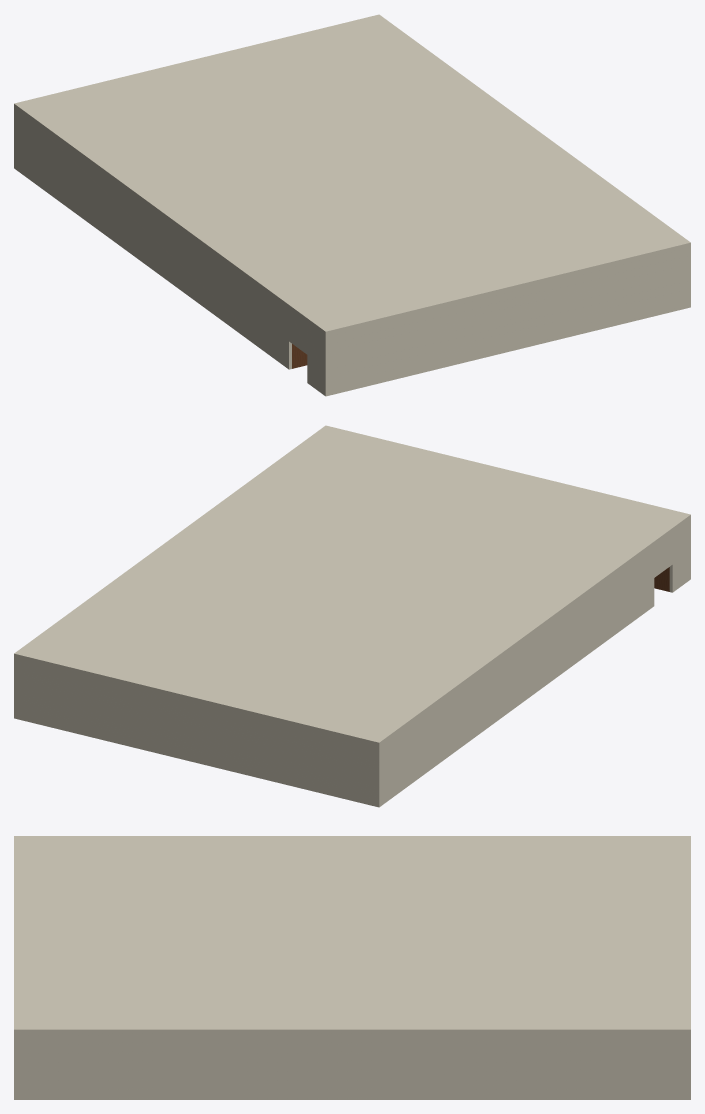
File: WP02_sports_care.glb
3 views of the same model, one above another, from view 1: azimuth 30°, elevation 25°; view 2: azimuth 150°, elevation 25°; view 3: azimuth 270°, elevation 25° (orthographic). The views are drawn at different scales.
Visible parts, largest first — view 1: OpaqueDeckBoundaryEnclosure, AftWall, WestWall_fore, WestWall_aft, EastWall, ForeWall, WestPortalLintel; view 2: OpaqueDeckBoundaryEnclosure, ForeWall, WestWall_fore, WestWall_aft, EastWall, AftWall, WestPortalLintel; view 3: OpaqueDeckBoundaryEnclosure, EastWall, WestWall_fore, ForeWall, AftWall.
Part boxes in pixels (x1,y1,x2,y2): OpaqueDeckBoundaryEnclosure: (15,15,689,332); AftWall: (328,242,687,395); WestWall_fore: (14,103,291,369); WestWall_aft: (307,317,328,396); EastWall: (376,14,690,307); ForeWall: (17,15,377,103); WestPortalLintel: (289,303,311,354); OpaqueDeckBoundaryEnclosure: (14,426,690,743); ForeWall: (17,654,377,806); WestWall_fore: (376,540,654,807); WestWall_aft: (669,514,690,592); EastWall: (14,425,328,718); AftWall: (327,426,687,514); WestPortalLintel: (650,526,672,577); OpaqueDeckBoundaryEnclosure: (14,836,690,1031); EastWall: (14,1028,690,1099); WestWall_fore: (93,836,690,837); ForeWall: (687,837,690,1027); AftWall: (14,837,17,1027).
Size of the model in its own units: 46 by 7.8 by 68.
111 materials, 94 textured.
